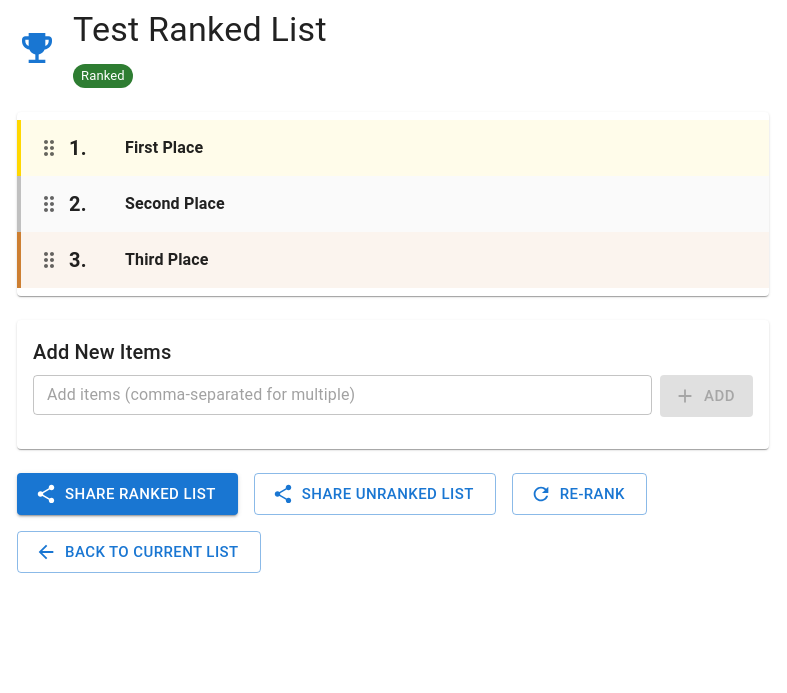
Test: RankedResultView › Unranked Items Display › displays unranked items count
This screenshot has width=787, height=693.
Type "Item 1" into the field with placeholder "Add items (comma-separated for multiple)".
click(343, 395); type("Item 1")  # box [33,375,652,415]
Then press Enter
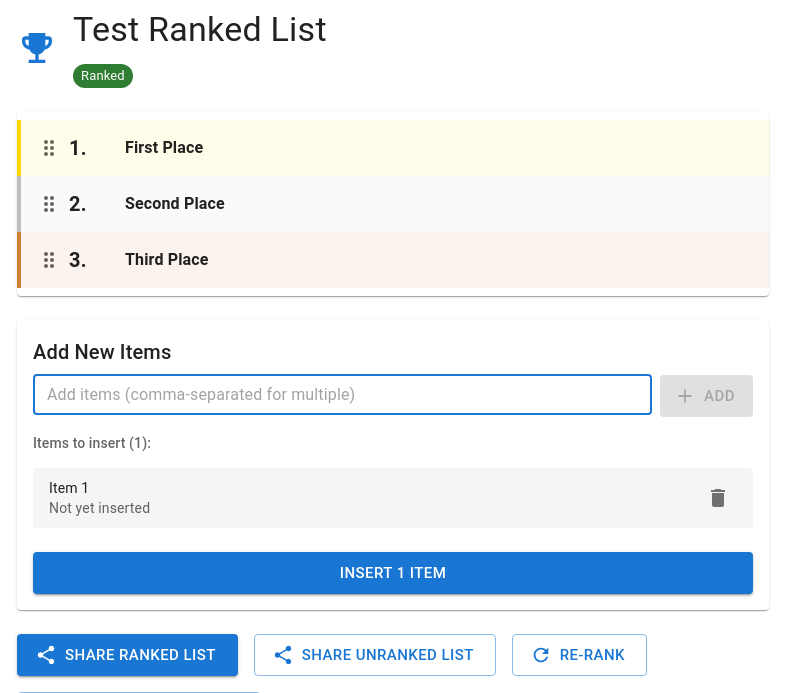
Type "Item 2" into the field with placeholder "Add items (comma-separated for multiple)".
click(343, 395); type("Item 2")  # box [33,375,652,415]
Then press Enter
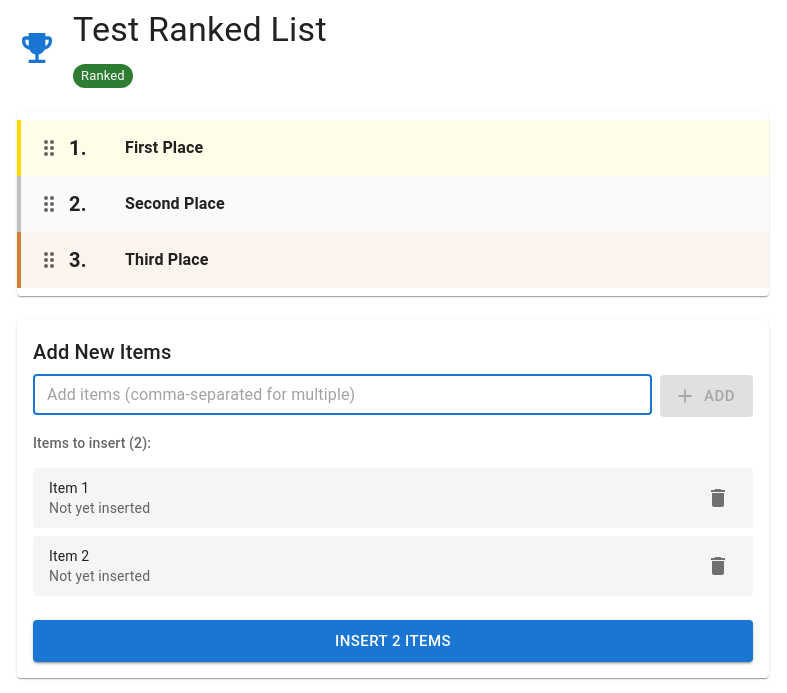
Expected: the heading "Items to insert (2):" is shown, [33,435,151,451]
